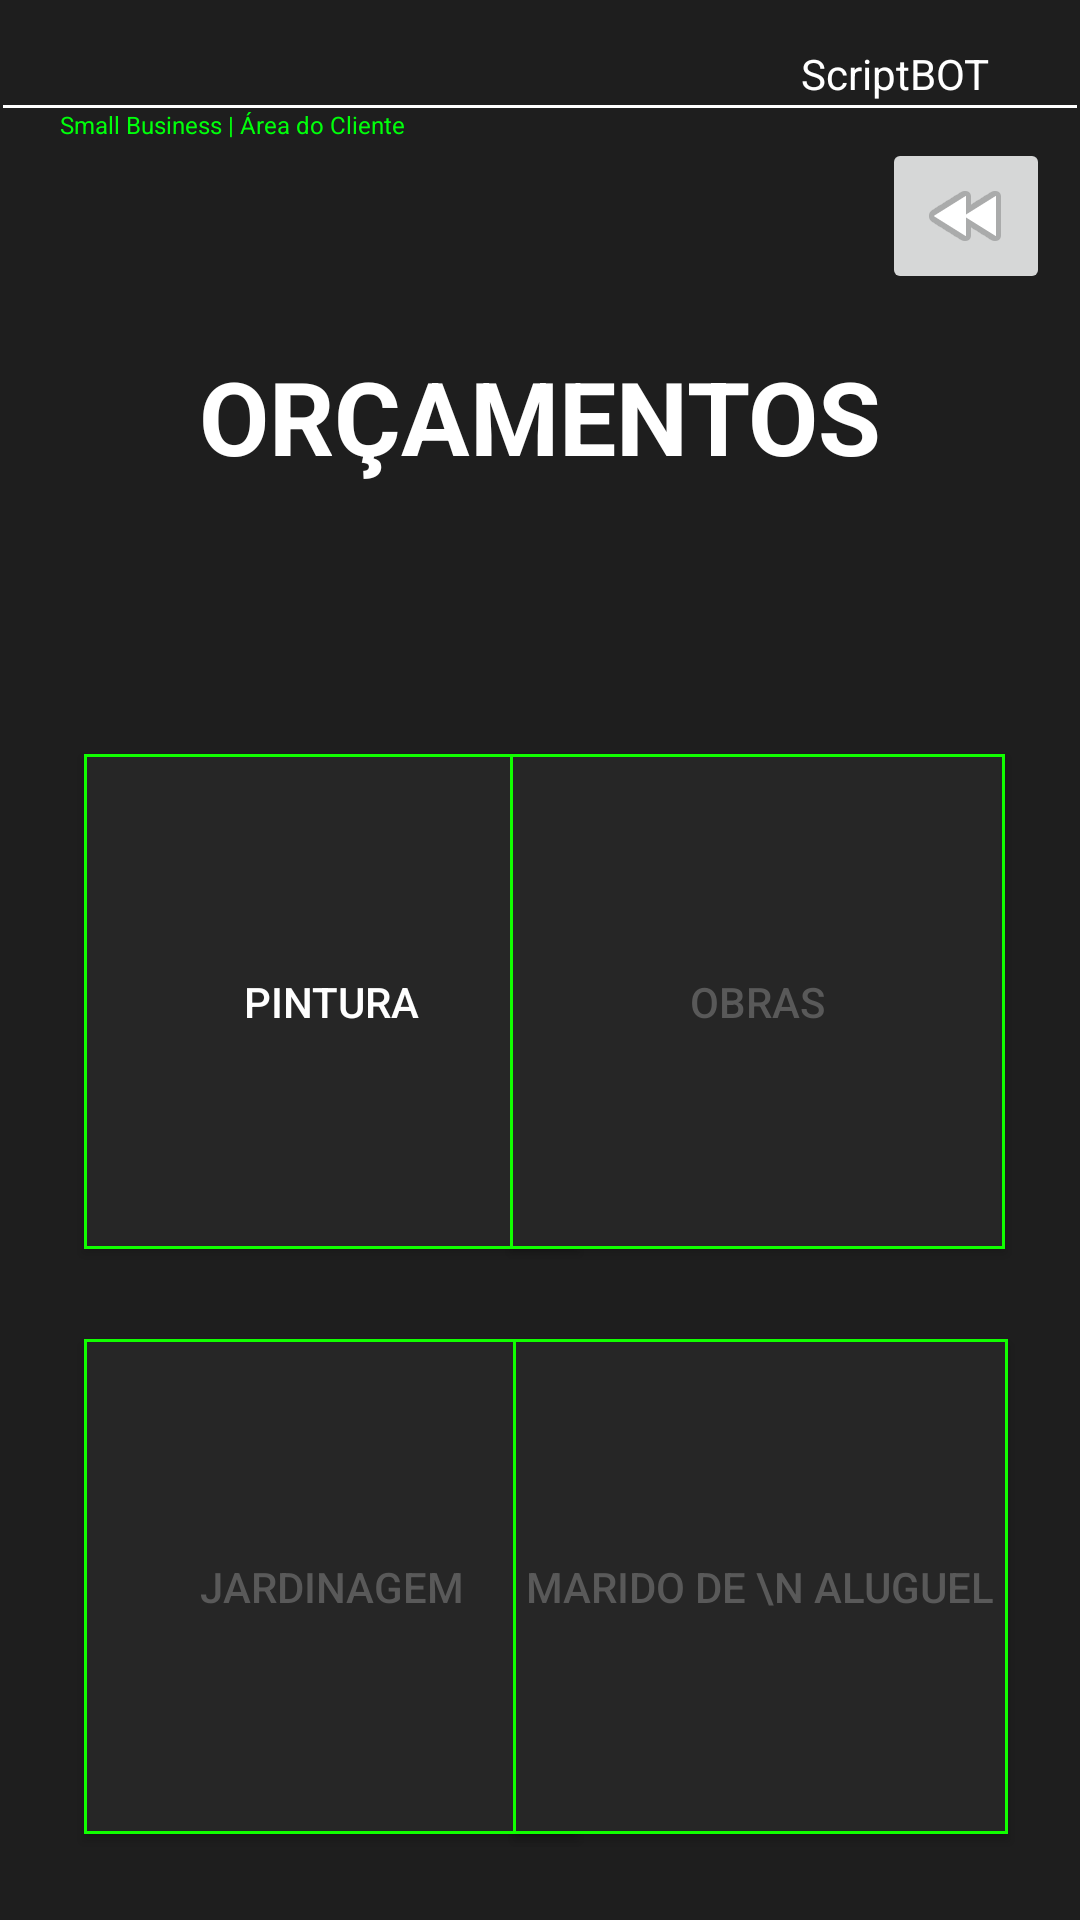

Icons on this 1080w x 1920h Android screen, each with its box as [x1,y1,x2,y2]:
rew: [894,156,1038,276]
